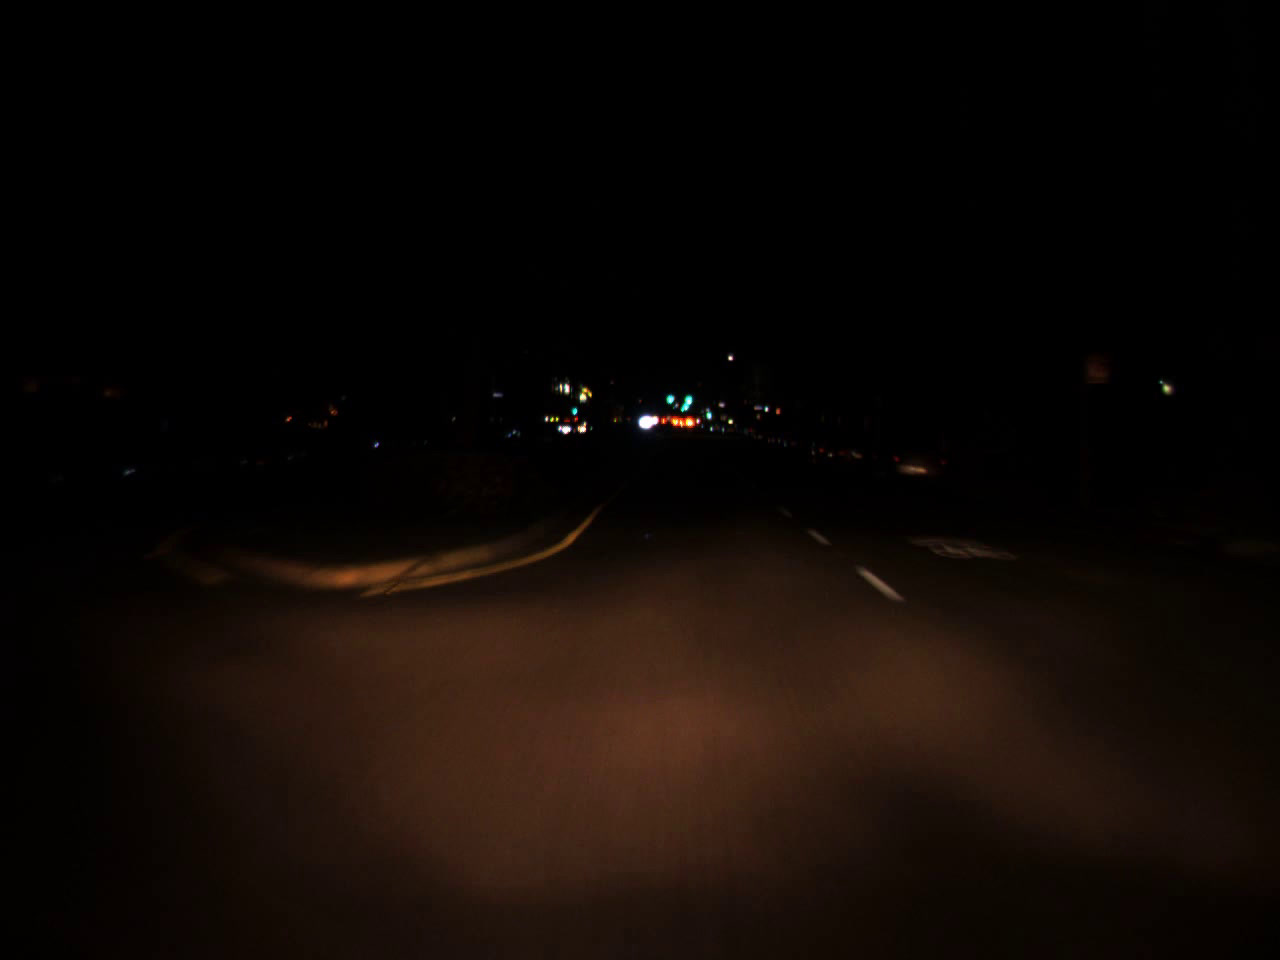go: (681, 385, 693, 406), (665, 385, 674, 406), (703, 405, 711, 419), (570, 401, 577, 416)
